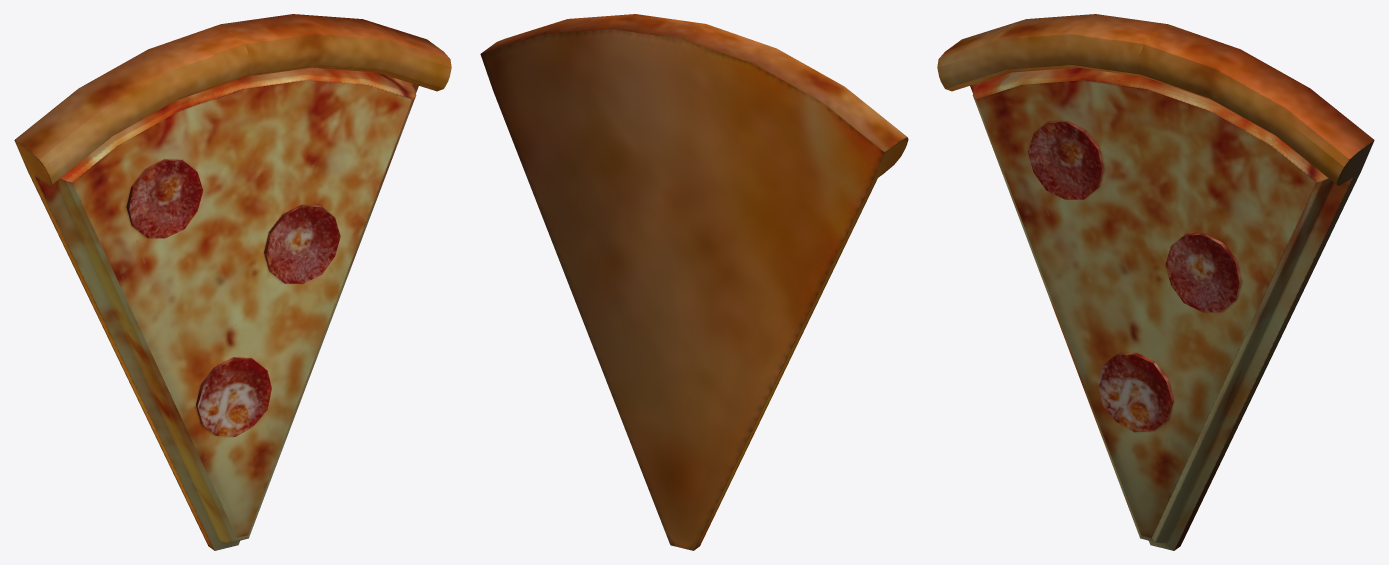
File: pizza3.glb
The picture shows the model from 3 angles, left to right: view 1: azimuth 30°, elevation 25°; view 2: azimuth 150°, elevation 25°; view 3: azimuth 330°, elevation 25°; orthographic projection. The views are drawn at different scales.
Parts seen in each view (by area): view 1: Slice; view 2: Slice; view 3: Slice.
Boxes of the visible parts, x1,y1,x2,y2 form: Slice: [14, 14, 451, 550]; Slice: [480, 14, 908, 550]; Slice: [937, 14, 1374, 550].
Size of what is drawn, in the model's own units: 0.4667 by 0.5613 by 0.0572.
Materials: 1 (1 with a texture image).
